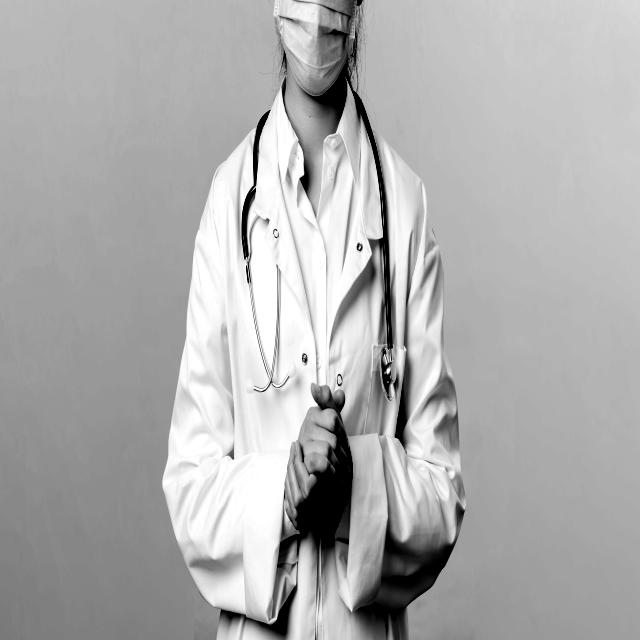No-Vest: (211, 111, 411, 640)
